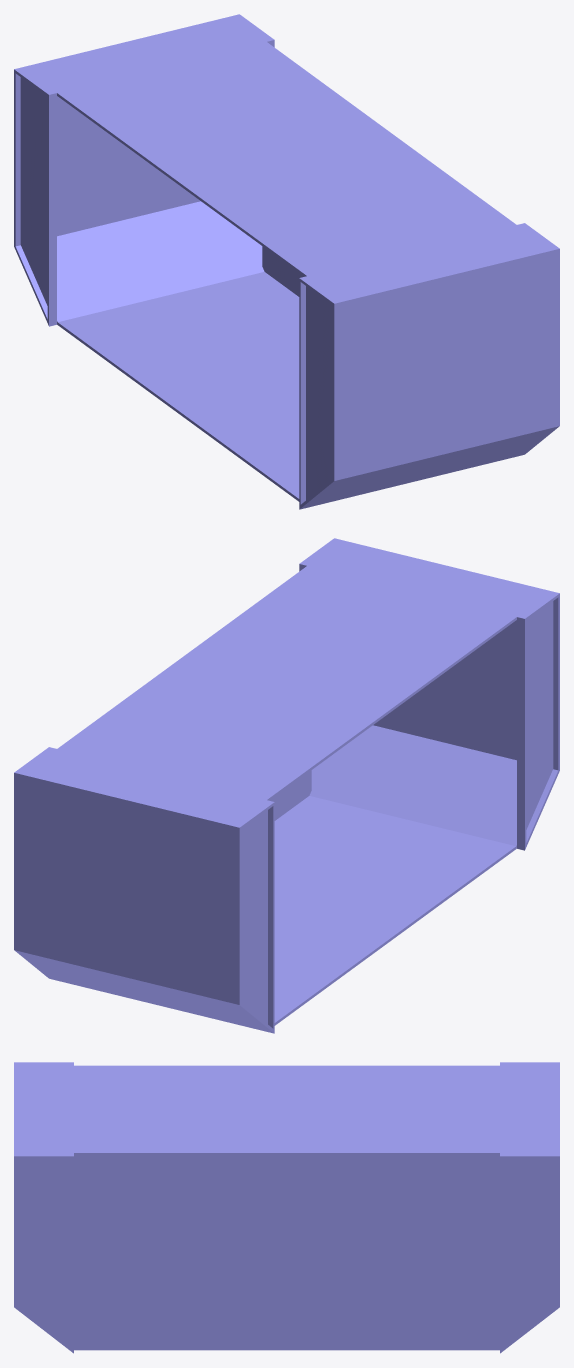
Rendered from PartBody 5.FBX.
The picture shows the model from 3 angles, top to bottom: view 1: azimuth 30°, elevation 25°; view 2: azimuth 150°, elevation 25°; view 3: azimuth 270°, elevation 25°; orthographic projection. The views are drawn at different scales.
Visible parts, largest first — view 1: PartBody; view 2: PartBody; view 3: PartBody.
Boxes of the visible parts, left/top/right/bottom form: PartBody: left=14, top=14, right=559, bottom=509; PartBody: left=14, top=538, right=559, bottom=1033; PartBody: left=14, top=1062, right=559, bottom=1353.
Bounding box in the file's own units: 165 × 406 × 162.
